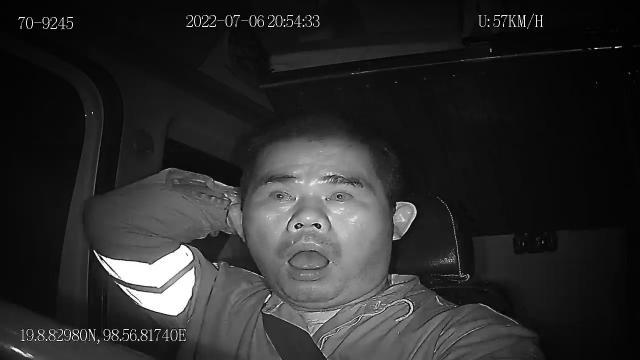SafeDriving: (260, 179, 302, 208), (320, 179, 360, 209)
Seatbelt: (259, 308, 329, 360)
